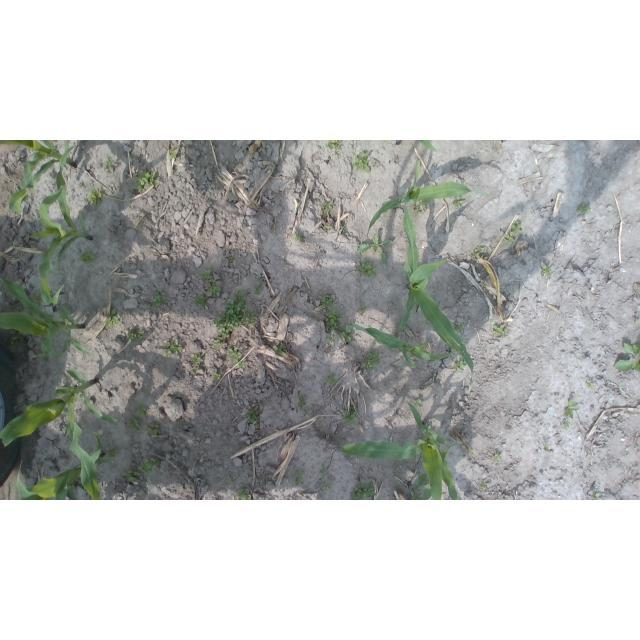Maize: (1, 368, 116, 500), (367, 160, 473, 273), (341, 402, 461, 498), (396, 262, 474, 393), (28, 184, 95, 305), (0, 277, 88, 357), (17, 432, 105, 499), (0, 140, 78, 214), (350, 321, 455, 370), (407, 472, 438, 501), (418, 141, 440, 153)
Weeds: (358, 233, 393, 263), (613, 341, 640, 375), (215, 315, 259, 329), (351, 481, 376, 500), (137, 171, 159, 192), (351, 150, 371, 172), (163, 339, 182, 358), (325, 310, 341, 331), (227, 300, 246, 315), (565, 399, 579, 419), (359, 262, 378, 276), (138, 458, 159, 470), (107, 308, 120, 327), (128, 328, 144, 343), (89, 188, 102, 206), (209, 280, 222, 297), (574, 203, 591, 215), (153, 292, 167, 306), (127, 418, 142, 431), (247, 409, 260, 424), (293, 469, 305, 485), (125, 471, 142, 482), (321, 200, 335, 213), (453, 358, 467, 371), (212, 338, 227, 350), (342, 325, 353, 341), (218, 328, 235, 338), (148, 424, 161, 437), (345, 411, 358, 424), (80, 251, 94, 263), (135, 403, 147, 417), (238, 488, 252, 500), (541, 263, 552, 278), (296, 407, 311, 418), (511, 222, 523, 235), (369, 351, 382, 363), (229, 347, 242, 359), (326, 141, 343, 150), (193, 295, 208, 305), (101, 156, 113, 168), (274, 345, 287, 356), (493, 325, 506, 336), (295, 232, 306, 244), (452, 198, 464, 209), (200, 269, 213, 279), (191, 353, 204, 363), (505, 232, 516, 243), (415, 204, 427, 214), (326, 376, 338, 386), (234, 359, 246, 369), (297, 396, 307, 408), (323, 295, 334, 305), (237, 292, 247, 302), (321, 481, 331, 491), (562, 422, 573, 430), (475, 246, 484, 255), (358, 304, 367, 313), (326, 334, 335, 343), (586, 381, 595, 390), (491, 454, 501, 462), (170, 149, 177, 160), (365, 360, 374, 368), (455, 323, 464, 331), (247, 311, 258, 317), (255, 286, 262, 295), (214, 372, 221, 381), (108, 451, 117, 458), (192, 366, 201, 373), (350, 402, 357, 411), (321, 464, 328, 473), (417, 399, 424, 408), (480, 483, 489, 490), (595, 493, 603, 500), (471, 253, 479, 260), (322, 305, 333, 310), (632, 319, 640, 325), (392, 471, 398, 478), (323, 225, 329, 231), (343, 227, 348, 234), (228, 255, 233, 262), (228, 476, 233, 483), (545, 445, 550, 452), (321, 214, 327, 219), (297, 203, 301, 210), (420, 202, 428, 205), (372, 162, 376, 167), (343, 218, 347, 222), (485, 256, 488, 260)
